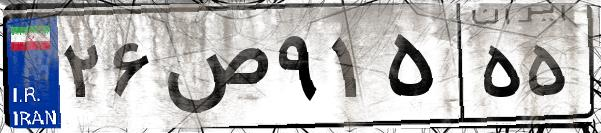1: (330, 28, 385, 110)
2: (57, 26, 110, 100)
5: (385, 28, 445, 110), (475, 38, 525, 113), (525, 38, 570, 115)
6: (110, 28, 158, 98)
9: (270, 28, 330, 110)
ص: (158, 20, 270, 120)
